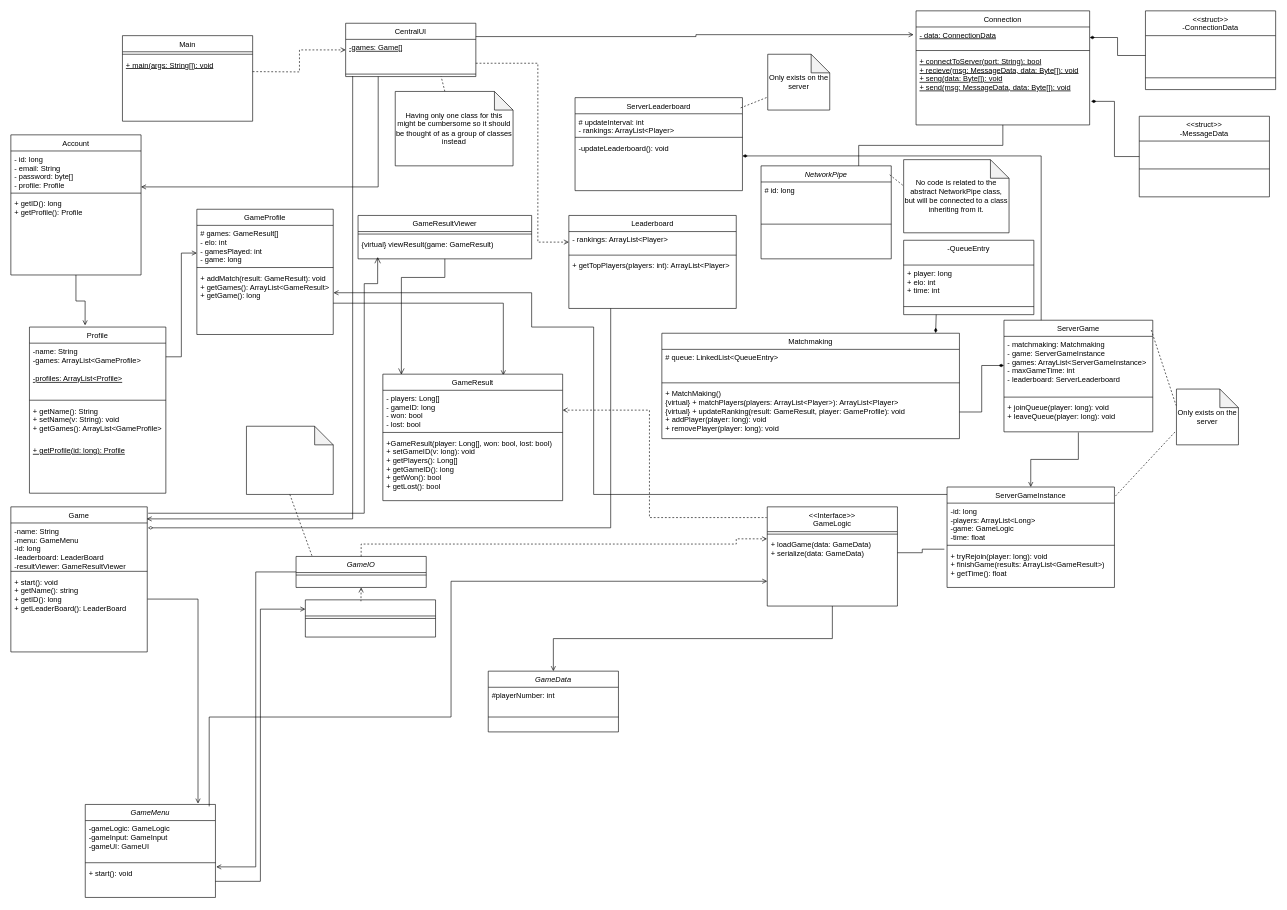
This 1287x910 diagram has some shape labels left out. Here are the shapes that lost their labels. From the top down, the centre of each, then its label:
At (289,460): "A middle man between GameLogic and GameUI".
At (370,618): "GameUI".
